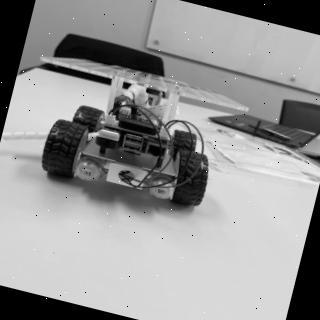vehicle: (33, 58, 250, 223)
